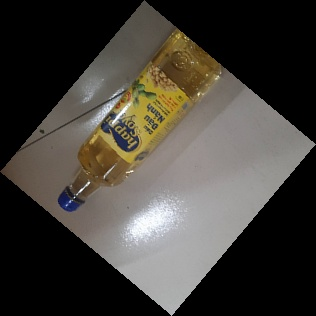Happy Soya: (51, 24, 230, 213)
